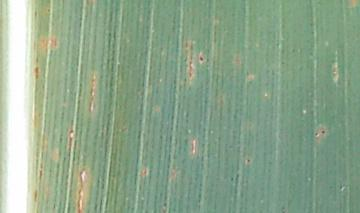tarspot: (197, 54, 208, 64), (319, 126, 329, 136), (244, 157, 254, 166), (312, 130, 322, 139)
